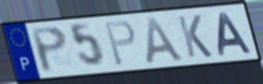5: (66, 21, 109, 71)
A: (144, 16, 187, 66), (218, 11, 254, 58)
K: (175, 13, 214, 59)
P: (28, 25, 69, 75), (103, 19, 138, 68)
